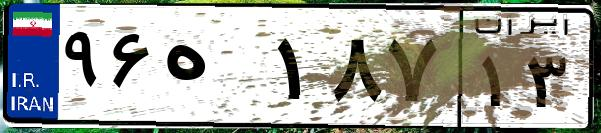1: (270, 28, 330, 110), (475, 38, 525, 113)
3: (525, 38, 570, 115)
6: (110, 28, 158, 98)
7: (385, 28, 445, 110)
8: (330, 28, 385, 110)
9: (57, 26, 110, 100)
ه: (158, 20, 270, 120)
